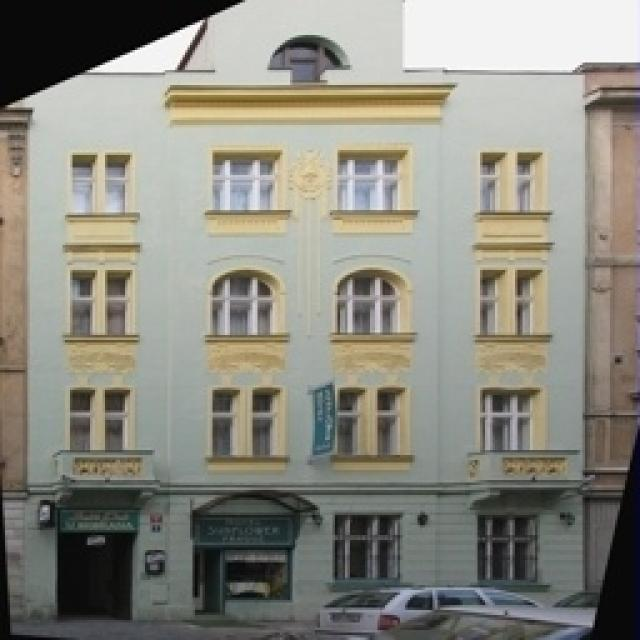building: (35, 0, 575, 640)
